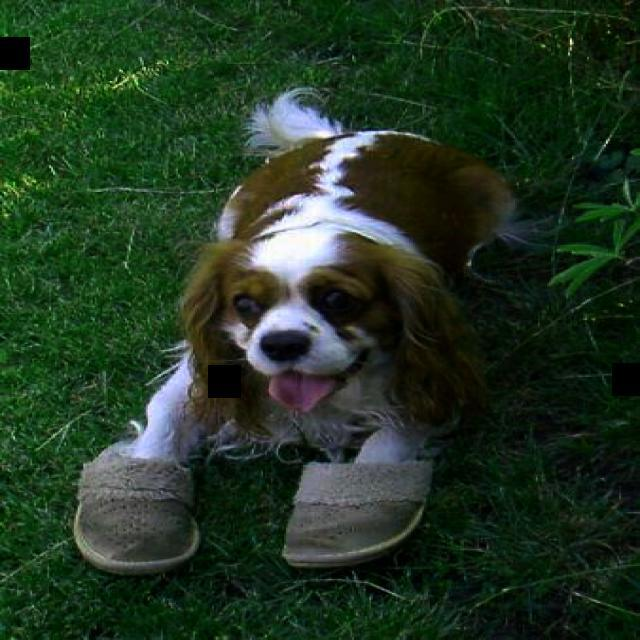adult_dog: (109, 91, 553, 470)
